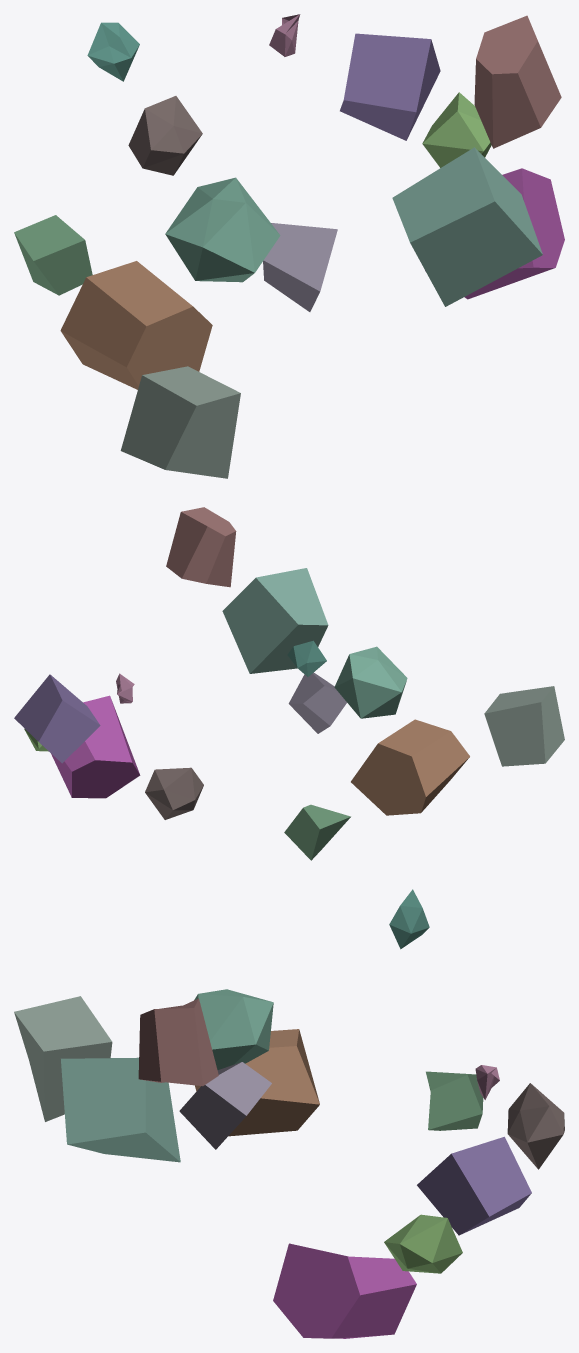
File: trash_pile.glb
3 views of the same model, one above another, from view 1: azimuth 30°, elevation 25°; view 2: azimuth 150°, elevation 25°; view 3: azimuth 270°, elevation 25° (orthographic). The views are drawn at different scales.
Parts seen in each view (by area): view 1: trash_pile; view 2: trash_pile; view 3: trash_pile.
Part boxes in pixels (left/top/right/bottom): trash_pile: left=14, top=14, right=564, bottom=478; trash_pile: left=14, top=507, right=564, bottom=860; trash_pile: left=14, top=889, right=564, bottom=1338.
Bounding box in the file's own units: 1.18 × 0.6888 × 1.07.
